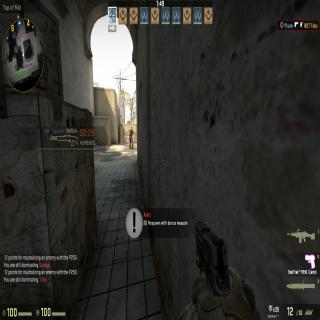T-Body: (128, 125, 134, 149)
T-Head: (130, 125, 132, 129)
